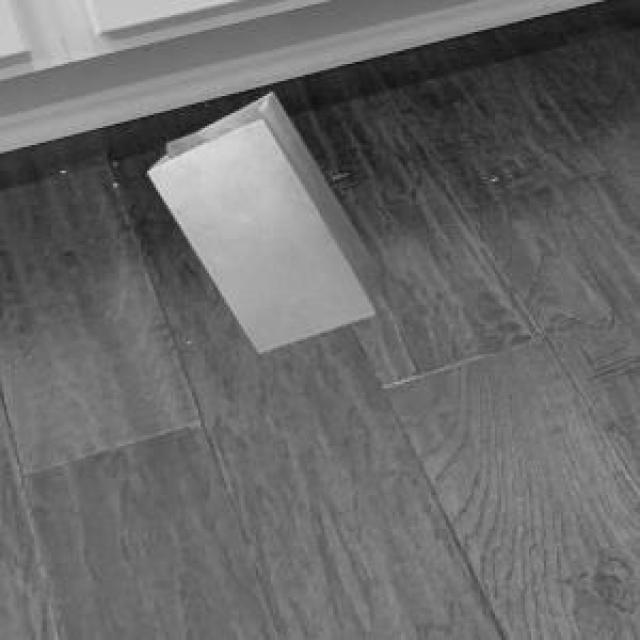paper: (145, 88, 373, 348)
